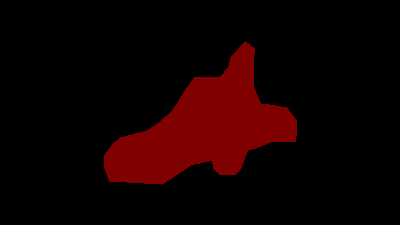fire: (104, 41, 296, 184)
